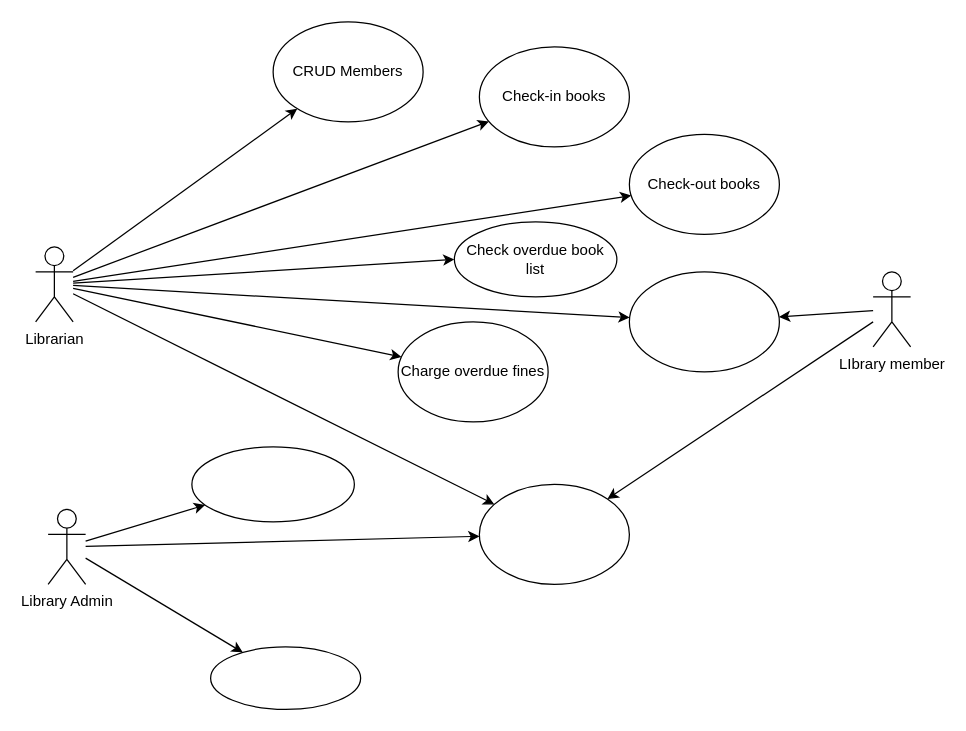
Some shapes in this 966 by 731 pixel diagram are drawn without their labels. The shapes that lost their labels are listed below. From the top down, each one's centre as x and y in pixels, then its label:
point (703, 321): Search books
point (272, 484): Add books
point (553, 533): Log-in and Log-out
point (285, 677): Manage librarians to the system
